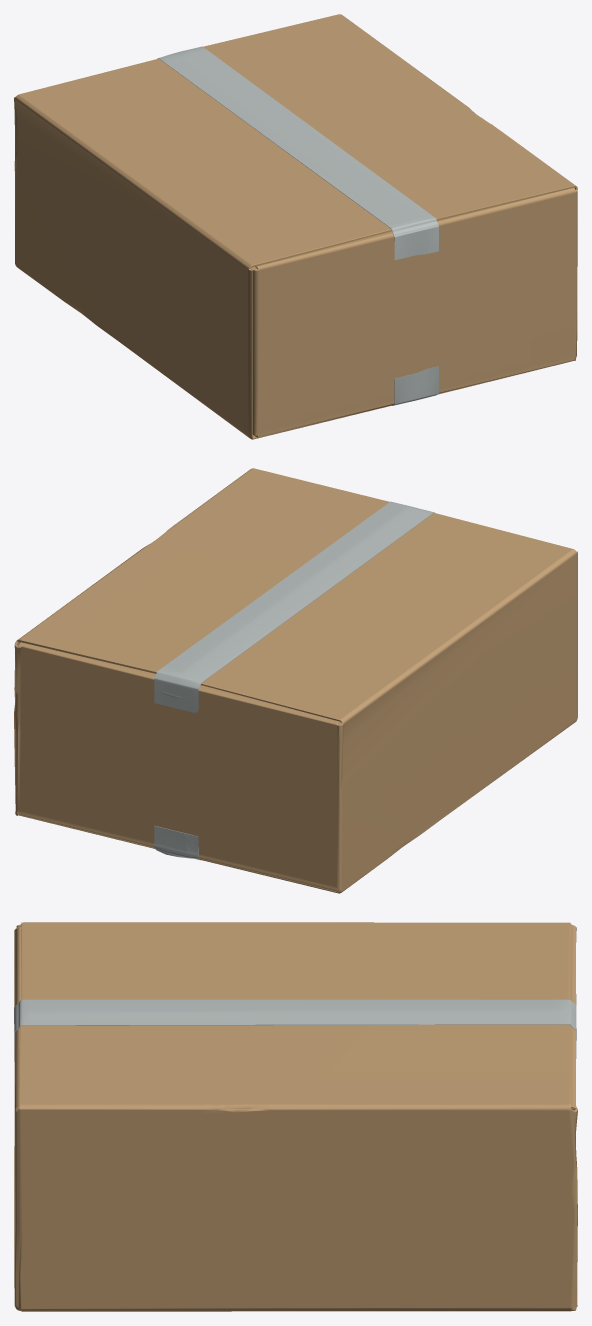
The model's file is box_printer_brown_b03.glb.
3 views of the same model, one above another, from view 1: azimuth 30°, elevation 25°; view 2: azimuth 150°, elevation 25°; view 3: azimuth 270°, elevation 25° (orthographic). The views are drawn at different scales.
Bounding box in the file's own units: 0.2247 × 0.1194 × 0.2841.
